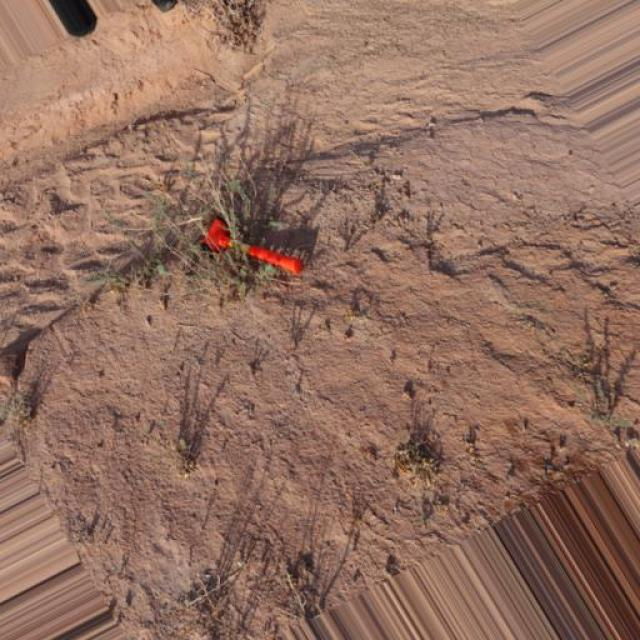mallet: (202, 216, 302, 276)
